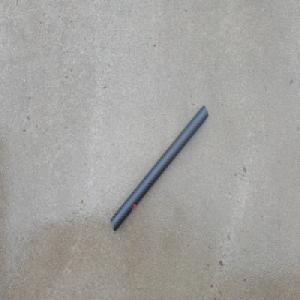LuggagePart: (110, 104, 208, 232)
